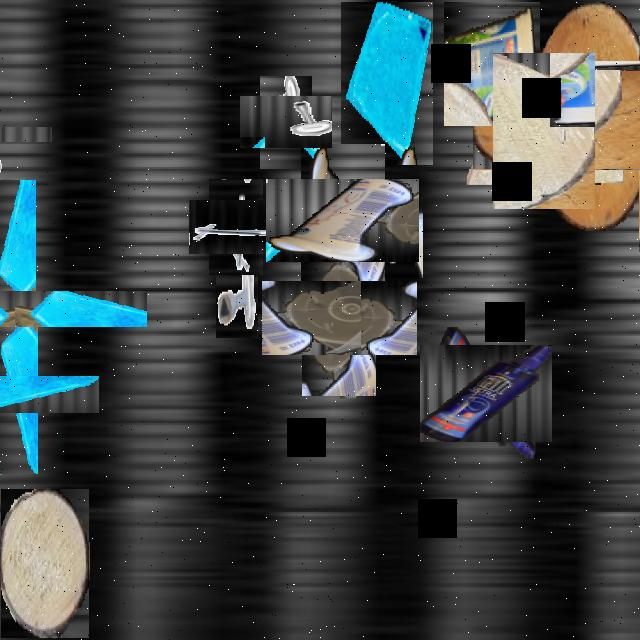glass: (341, 2, 433, 165), (0, 345, 68, 444)
metal: (198, 190, 274, 265), (250, 86, 322, 159), (373, 188, 423, 278), (216, 263, 258, 338), (0, 109, 33, 161)
plastic: (284, 161, 402, 280), (0, 235, 91, 383), (428, 336, 544, 450), (282, 260, 396, 376), (444, 2, 540, 126)
wood: (501, 31, 640, 199), (479, 67, 609, 196), (1, 489, 89, 638), (585, 89, 640, 198)
